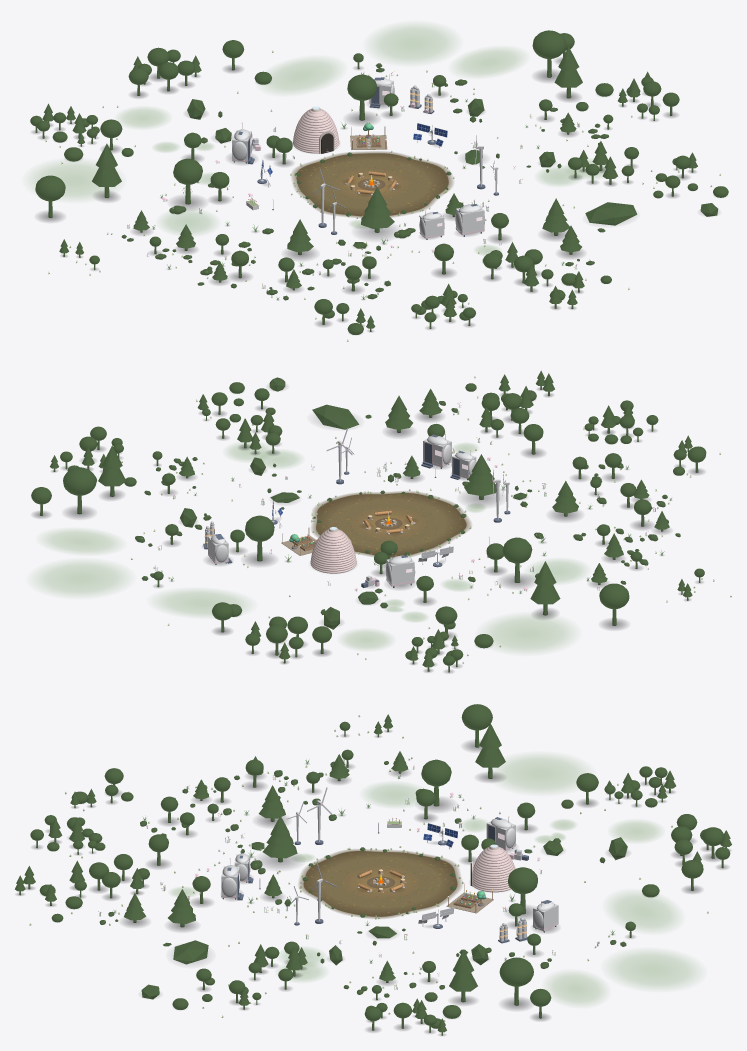
3 views of the same model, one above another, from view 1: azimuth 30°, elevation 25°; view 2: azimuth 150°, elevation 25°; view 3: azimuth 270°, elevation 25° (orthographic). The views are drawn at different scales.
Size of what is drawn, in the model's own units: 111 by 9.94 by 105.
80 materials, 5 textured.
